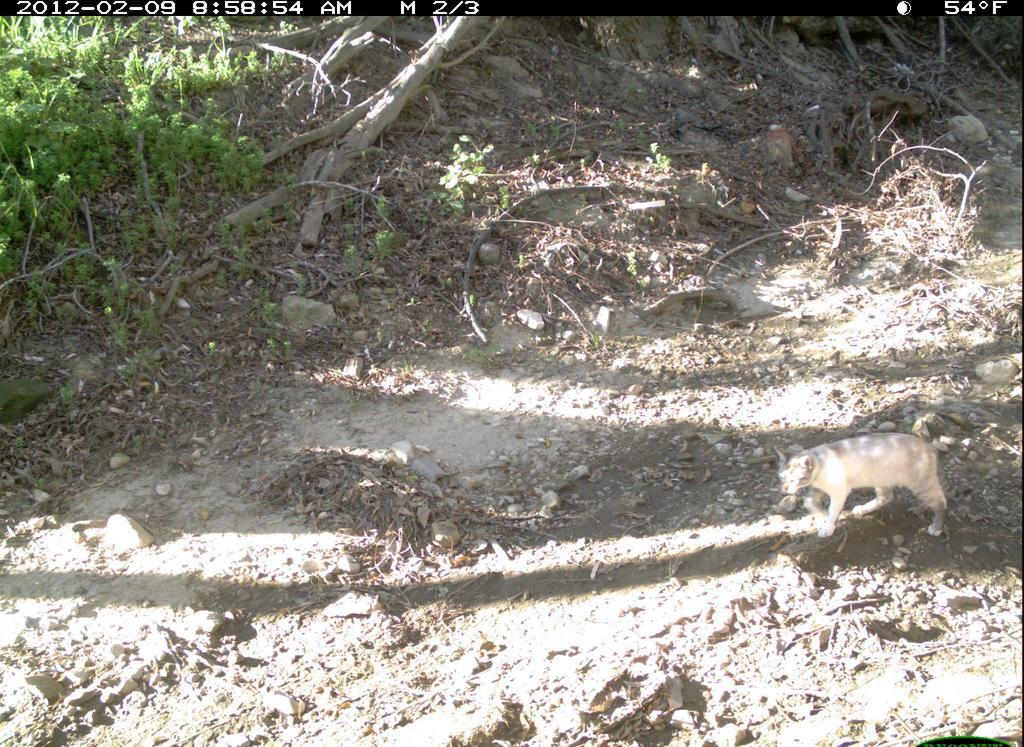cat: (772, 410, 966, 566)
